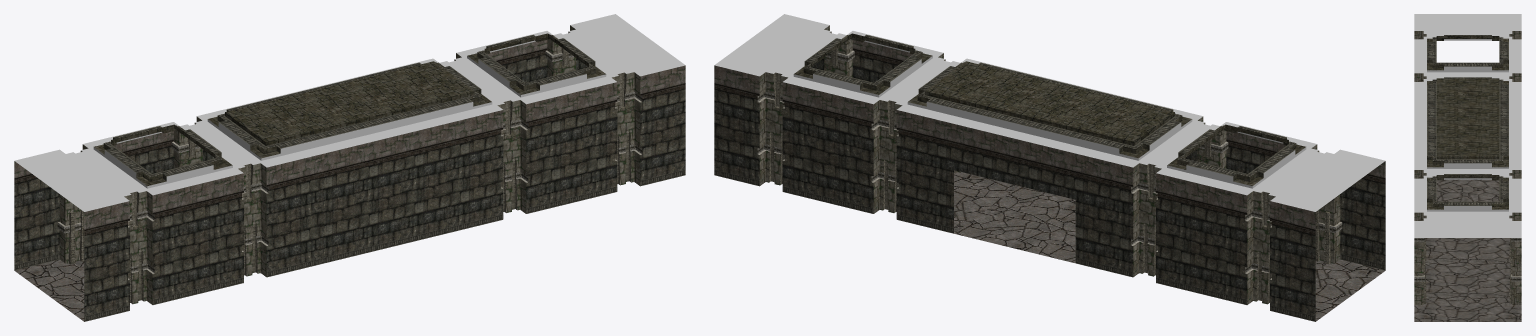
Rendered from thm_yavn_temple_exar_kun_r3_mesh_r3.fbx.
The picture shows the model from 3 angles, left to right: view 1: azimuth 30°, elevation 25°; view 2: azimuth 150°, elevation 25°; view 3: azimuth 270°, elevation 25°; orthographic projection. The views are drawn at different scales.
Visible parts, largest first — view 1: mesh_node; view 2: mesh_node; view 3: mesh_node.
Boxes of the visible parts, box(x1,y1,x2,y2) form: mesh_node: box(14, 14, 685, 321); mesh_node: box(714, 14, 1385, 321); mesh_node: box(1414, 14, 1521, 321).
Bounding box in the file's own units: 26.39 × 5.08 × 5.33.
